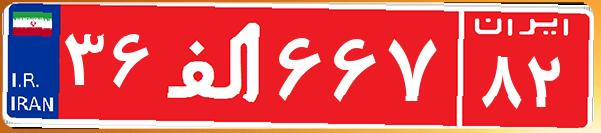2: (525, 38, 570, 115)
3: (57, 26, 110, 107)
6: (273, 28, 330, 110), (330, 28, 385, 110), (110, 28, 158, 105)
7: (385, 28, 445, 110)
8: (475, 38, 525, 113)
الف: (158, 15, 273, 115)
